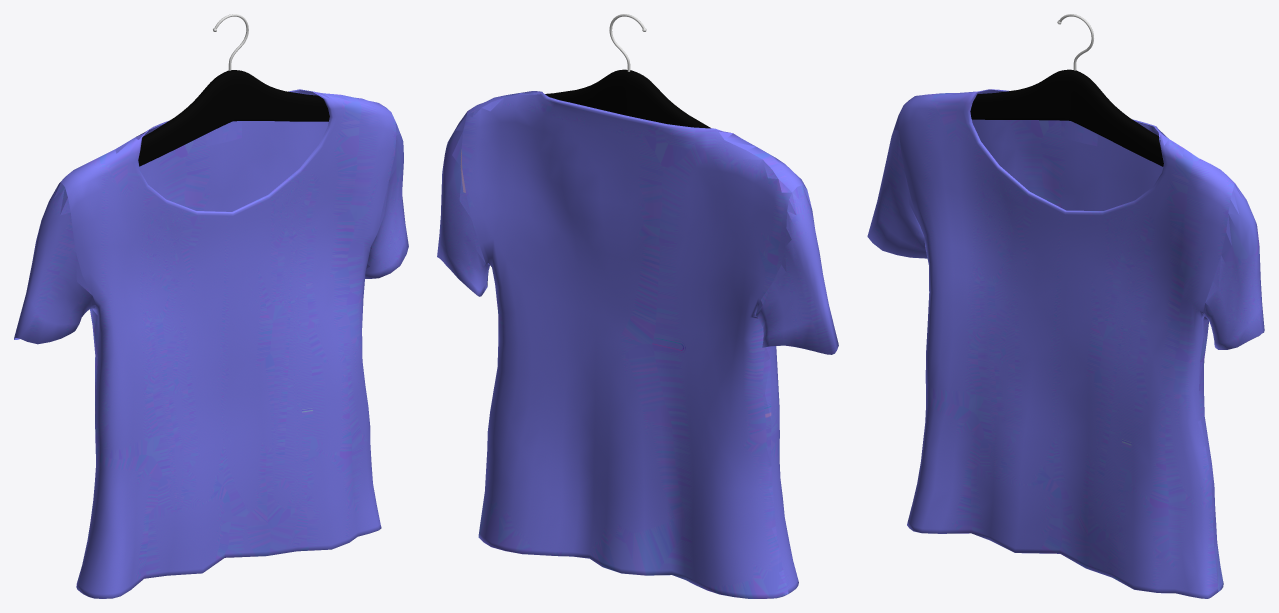
The model's file is HangingRedBlouse.gltf.
3 renders of one model, left to right at view 1: azimuth 30°, elevation 25°; view 2: azimuth 150°, elevation 25°; view 3: azimuth 330°, elevation 25°, orthographic.
Parts seen in each view (by area): view 1: HangingRedBlouse; view 2: HangingRedBlouse; view 3: HangingRedBlouse.
Boxes of the visible parts, x1,y1,x2,y2 form: HangingRedBlouse: [14, 14, 408, 598]; HangingRedBlouse: [437, 14, 838, 598]; HangingRedBlouse: [867, 14, 1264, 598].
Bounding box in the file's own units: 0.5583 × 0.7365 × 0.1046.
